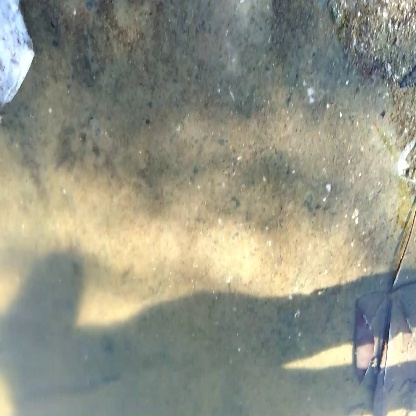branch: (364, 212, 416, 406)
